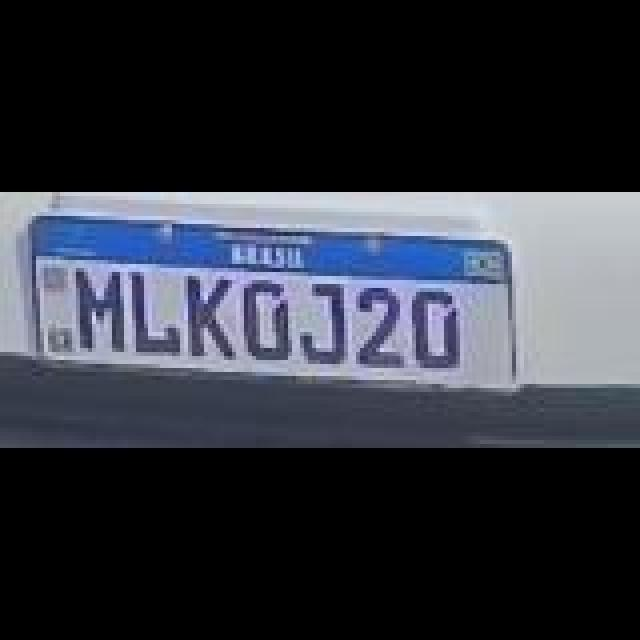2: (352, 288, 408, 368)
D: (408, 288, 464, 368), (238, 280, 290, 360)
J: (298, 282, 350, 366)
K: (186, 274, 238, 358)
L: (130, 274, 182, 358)
M: (76, 270, 132, 354)
